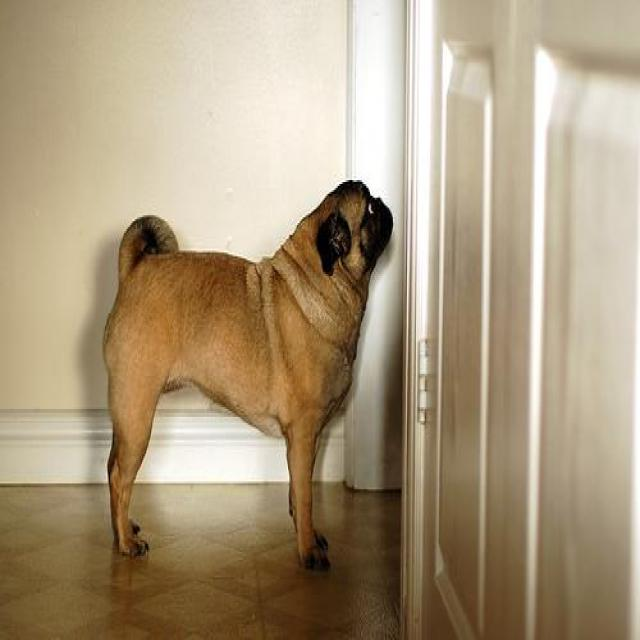good: (100, 175, 398, 572)
